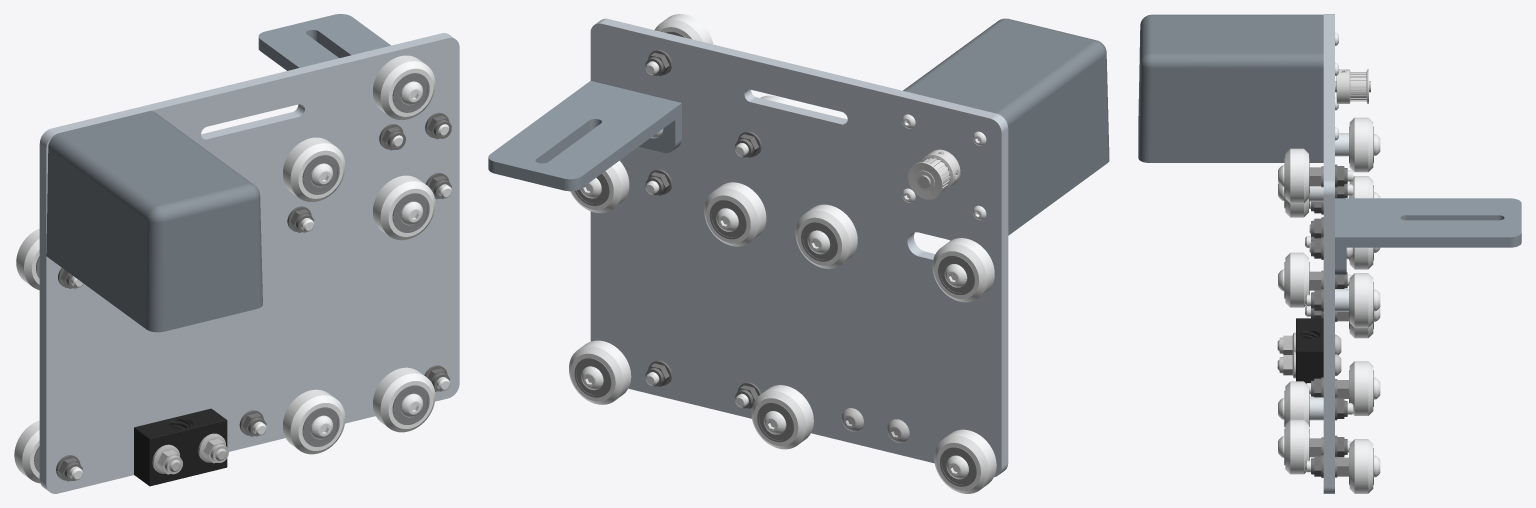
Rendered from cross_slide.dae.
The picture shows the model from 3 angles, left to right: view 1: azimuth 30°, elevation 25°; view 2: azimuth 150°, elevation 25°; view 3: azimuth 270°, elevation 25°; orthographic projection. The views are drawn at different scales.
Visible parts, largest first — view 1: Cross-Slide Plate, 75mm Horizontal Motor Housing, V-Wheel (×7), 80mm Cable Carrier Mount, Leadscrew Block, Bearing (×5), M5 Flange Locknut (×2); view 2: Cross-Slide Plate, 75mm Horizontal Motor Housing, V-Wheel (×8), 80mm Cable Carrier Mount, Bearing (×6), 20T Pulley; view 3: 75mm Horizontal Motor Housing, V-Wheel (×10), 80mm Cable Carrier Mount, Cross-Slide Plate, Leadscrew Block, 20T Pulley.
Part boxes in pixels (<box>): Cross-Slide Plate: <box>39,33,459,493</box>; 75mm Horizontal Motor Housing: <box>46,111,262,332</box>; V-Wheel (×7): <box>14,55,435,483</box>; 80mm Cable Carrier Mount: <box>258,14,390,70</box>; Leadscrew Block: <box>134,408,227,486</box>; Bearing (×5): <box>302,73,429,446</box>; M5 Flange Locknut (×2): <box>152,433,228,474</box>; Cross-Slide Plate: <box>590,18,1008,476</box>; 75mm Horizontal Motor Housing: <box>903,18,1109,235</box>; V-Wheel (×8): <box>569,14,996,493</box>; 80mm Cable Carrier Mount: <box>488,80,681,191</box>; Bearing (×6): <box>574,199,976,486</box>; 20T Pulley: <box>908,149,960,199</box>; 75mm Horizontal Motor Housing: <box>1138,14,1323,162</box>; V-Wheel (×10): <box>1285,117,1373,493</box>; 80mm Cable Carrier Mount: <box>1335,198,1521,274</box>; Cross-Slide Plate: <box>1323,14,1334,493</box>; Leadscrew Block: <box>1296,318,1323,383</box>; 20T Pulley: <box>1336,69,1368,103</box>.
Bounding box in the file's own units: 0.1847 × 0.1666 × 0.1539.
